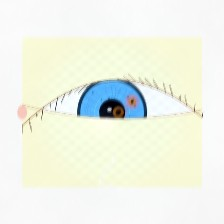foreign_body_visible: (102, 99, 134, 125)
